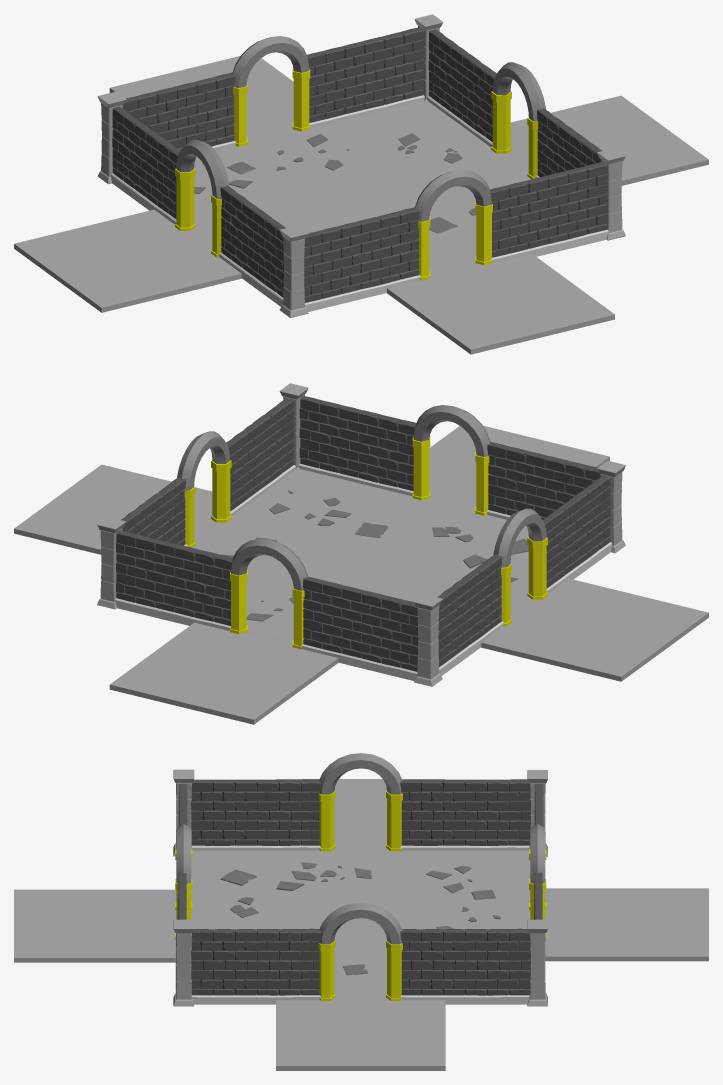
Rendered from Teleport_Arena_Base.fbx.
3 renders of one model, top to bottom at view 1: azimuth 30°, elevation 25°; view 2: azimuth 150°, elevation 25°; view 3: azimuth 270°, elevation 25°, orthographic. The views are drawn at different scales.
Visible parts, largest first — view 1: Teleport_Arena_Base; view 2: Teleport_Arena_Base; view 3: Teleport_Arena_Base.
Part boxes in pixels (x1,y1,x2,y2): Teleport_Arena_Base: [14, 14, 708, 354]; Teleport_Arena_Base: [14, 383, 708, 724]; Teleport_Arena_Base: [14, 753, 708, 1070].
Size of the model in its own units: 4800 by 793 by 4910.
